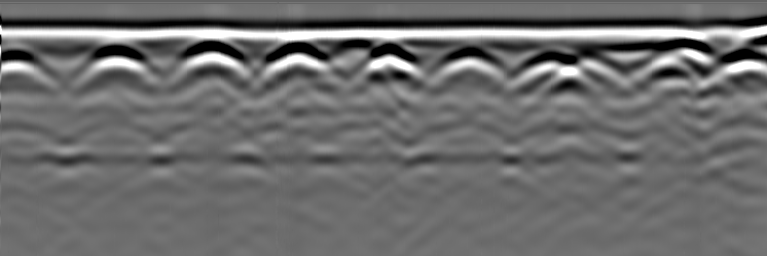pipe: (720, 31, 767, 61)
steel: (80, 45, 149, 84), (176, 44, 245, 78), (263, 45, 329, 77), (439, 47, 505, 78), (565, 52, 622, 84), (642, 59, 695, 93), (361, 45, 414, 78), (522, 49, 572, 83)
